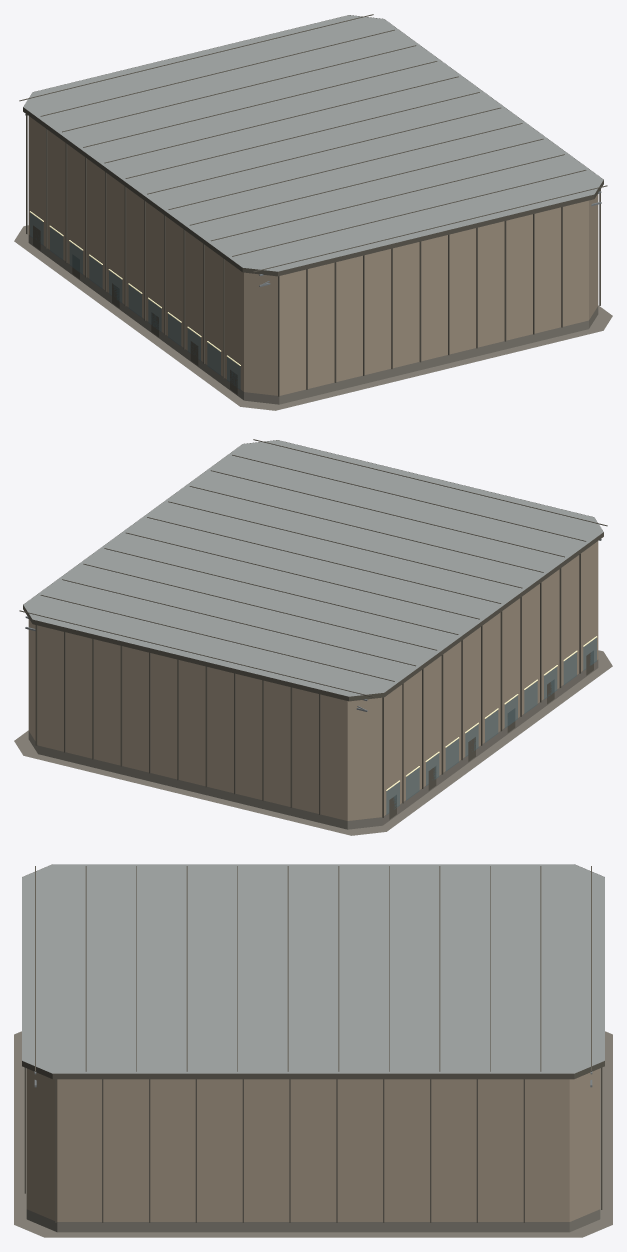
Rendered from shell.glb.
3 views of the same model, one above another, from view 1: azimuth 30°, elevation 25°; view 2: azimuth 150°, elevation 25°; view 3: azimuth 270°, elevation 25° (orthographic). The views are drawn at different scales.
Visible parts, largest first — view 1: shell_roof_canopy, shell_bowl_mass_cladding, shell_roof_canopy_fascia, shell_bowl_mass_facade_panels, shell_bowl_mass_plinth, shell_field_floor_apron, shell_bowl_mass_suite_glass_lobby, shell_bowl_mass_portal_frames; view 2: shell_roof_canopy, shell_bowl_mass_cladding, shell_roof_canopy_fascia, shell_bowl_mass_facade_panels, shell_bowl_mass_plinth, shell_field_floor_apron, shell_bowl_mass_suite_glass_lobby, shell_bowl_mass_portal_frames; view 3: shell_roof_canopy, shell_bowl_mass_cladding, shell_field_floor_apron, shell_roof_canopy_fascia, shell_bowl_mass_plinth, shell_bowl_mass_facade_panels.
Boxes of the visible parts, x1,y1,x2,y2 form: shell_roof_canopy: (23,15,603,271); shell_bowl_mass_cladding: (28,116,598,395); shell_roof_canopy_fascia: (19,14,607,276); shell_bowl_mass_facade_panels: (26,114,600,396); shell_bowl_mass_plinth: (28,234,598,404); shell_field_floor_apron: (14,225,612,410); shell_bowl_mass_suite_glass_lobby: (30,212,240,389); shell_bowl_mass_portal_frames: (33,225,237,394); shell_roof_canopy: (23,440,603,696); shell_bowl_mass_cladding: (28,541,598,820); shell_roof_canopy_fascia: (19,439,607,701); shell_bowl_mass_facade_panels: (35,554,580,817); shell_bowl_mass_plinth: (28,659,598,829); shell_field_floor_apron: (14,650,612,835); shell_bowl_mass_suite_glass_lobby: (386,637,596,814); shell_bowl_mass_portal_frames: (389,651,593,819); shell_roof_canopy: (22,864,604,1073); shell_bowl_mass_cladding: (26,1068,600,1221); shell_field_floor_apron: (14,1031,612,1237); shell_roof_canopy_fascia: (22,864,604,1079); shell_bowl_mass_plinth: (26,1209,600,1232); shell_bowl_mass_facade_panels: (24,1067,602,1222).
Size of the model in its own units: 53.42 by 18.59 by 62.55.
